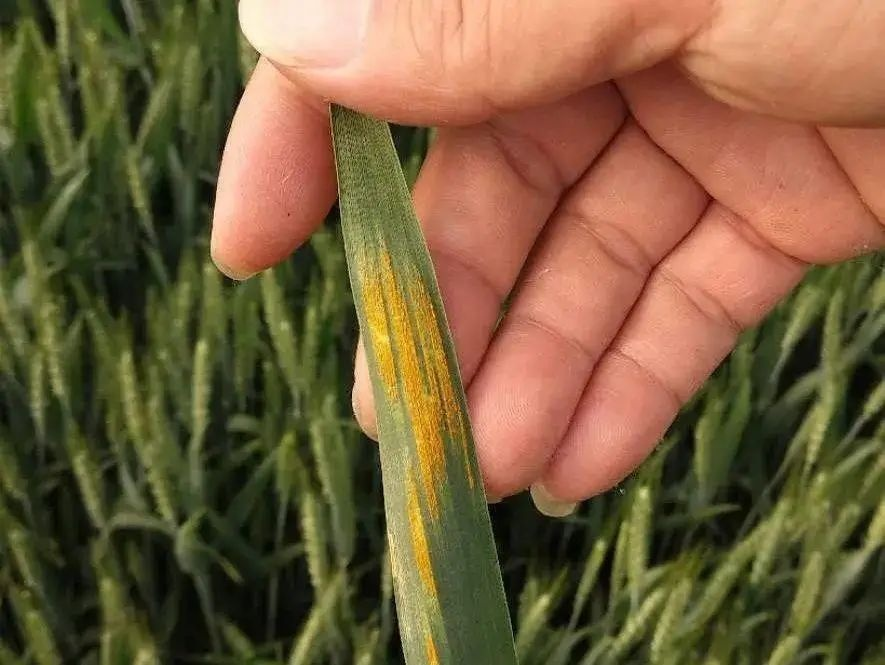Leaf Rust: (334, 247, 490, 581)
